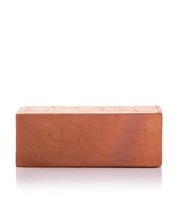brick: (16, 113, 162, 167)
